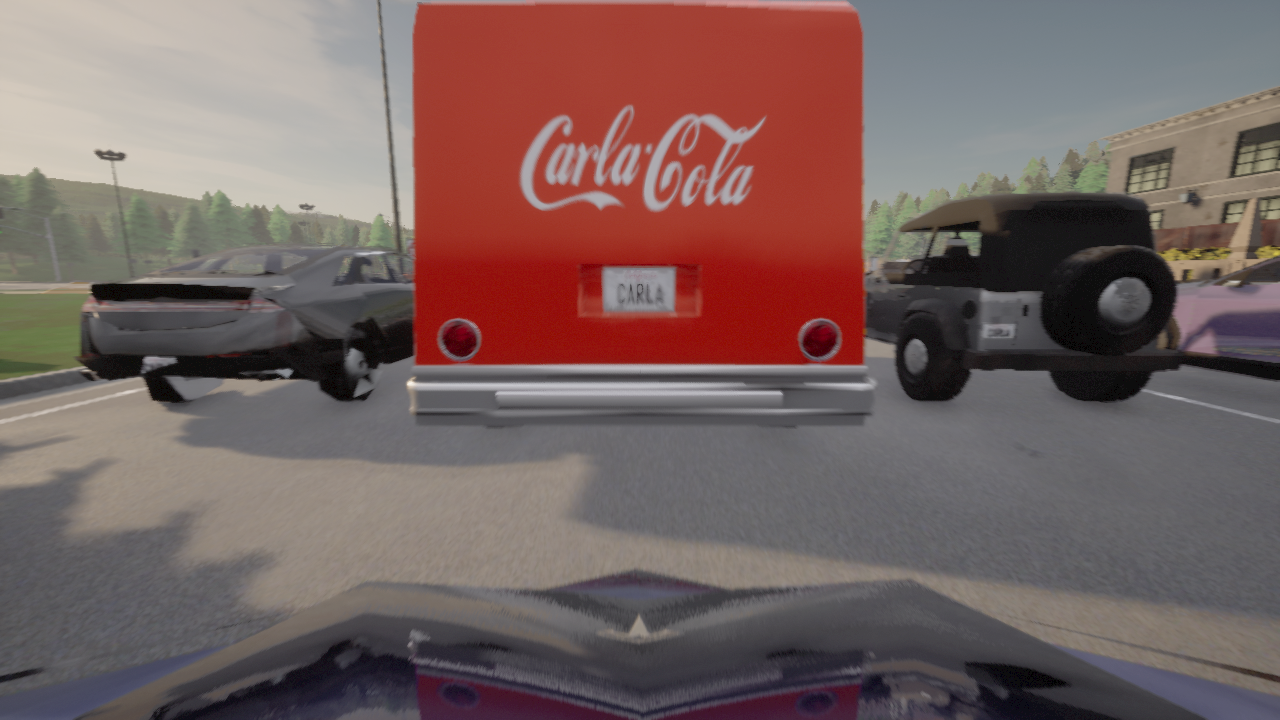cyclist: (407, 1, 875, 427), (0, 569, 1279, 719), (864, 192, 1183, 401), (73, 243, 413, 402), (1156, 256, 1279, 381)
